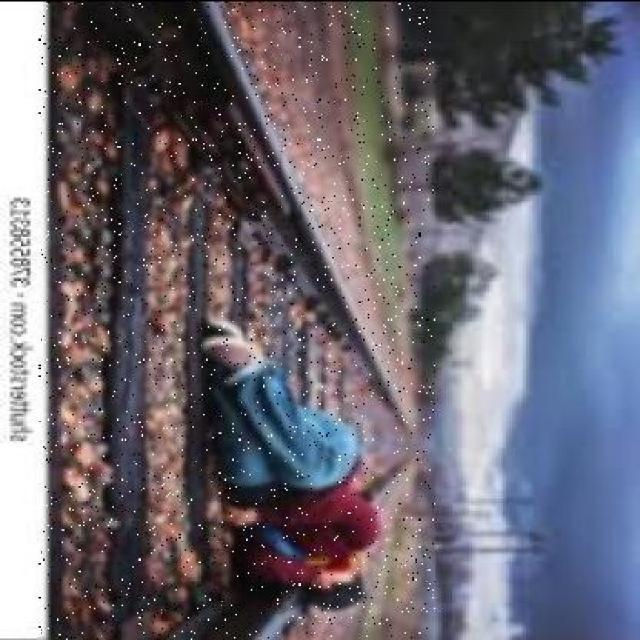danger: (188, 322, 376, 612)
rail: (38, 2, 435, 640)
